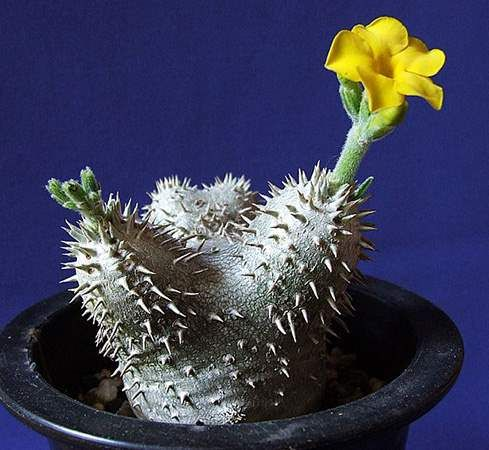Pachypodium brevicaule: (51, 160, 377, 408)
